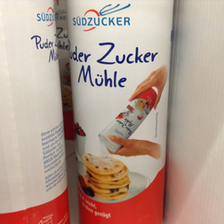sugar: (66, 1, 175, 224), (1, 1, 70, 224)
